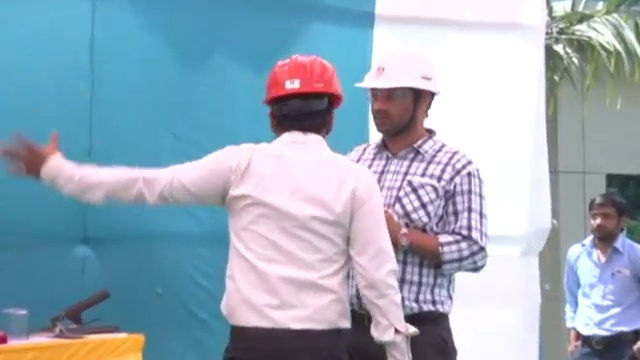helmet: (262, 52, 342, 111), (353, 48, 442, 96)
helmet_off: (586, 193, 623, 242)
helmet_on: (353, 49, 443, 154), (259, 51, 342, 145)
person: (2, 51, 416, 360), (344, 47, 490, 360), (562, 191, 640, 360)
